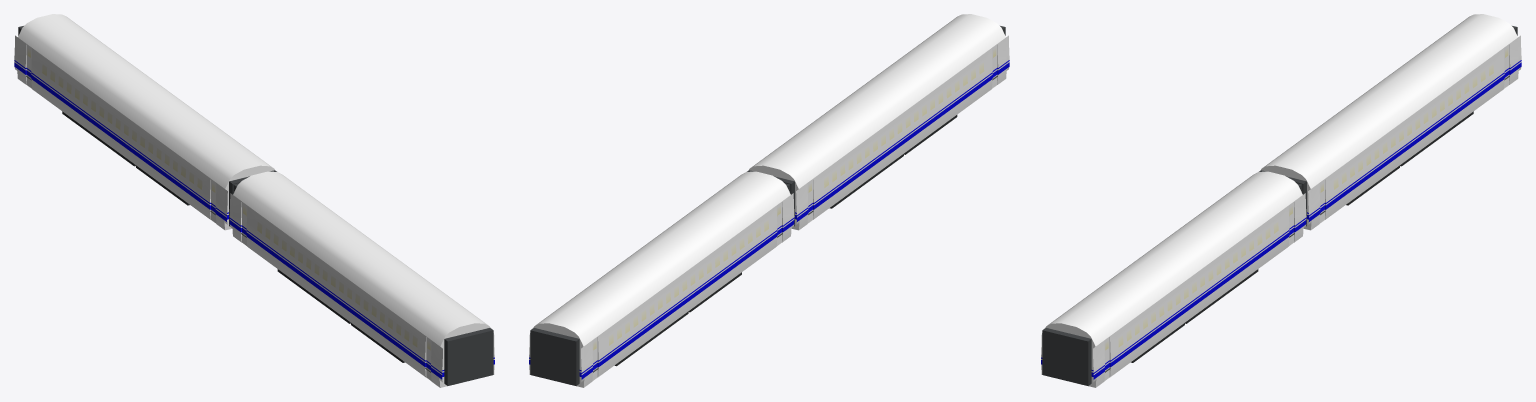
3 views of the same model, side by side, from view 1: azimuth 30°, elevation 25°; view 2: azimuth 150°, elevation 25°; view 3: azimuth 330°, elevation 25° (orthographic).
Visible parts, largest first — view 1: obj21; view 2: obj21; view 3: obj21.
Boxes of the visible parts, bbox=[...] form: obj21: bbox=[14, 14, 494, 387]; obj21: bbox=[529, 14, 1009, 387]; obj21: bbox=[1041, 14, 1521, 387].
Bounding box in the file's own units: 6.49 × 7.19 × 87.02.
Materials: 5 (5 with a texture image).
